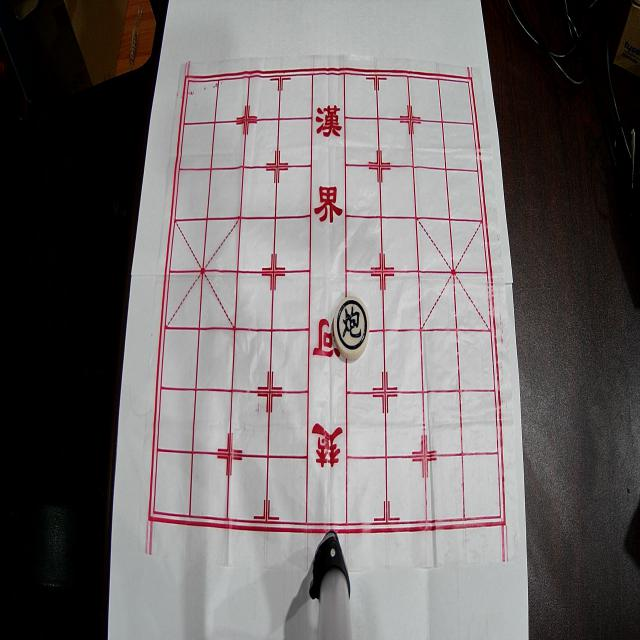black-cannon: (334, 296, 369, 360)
